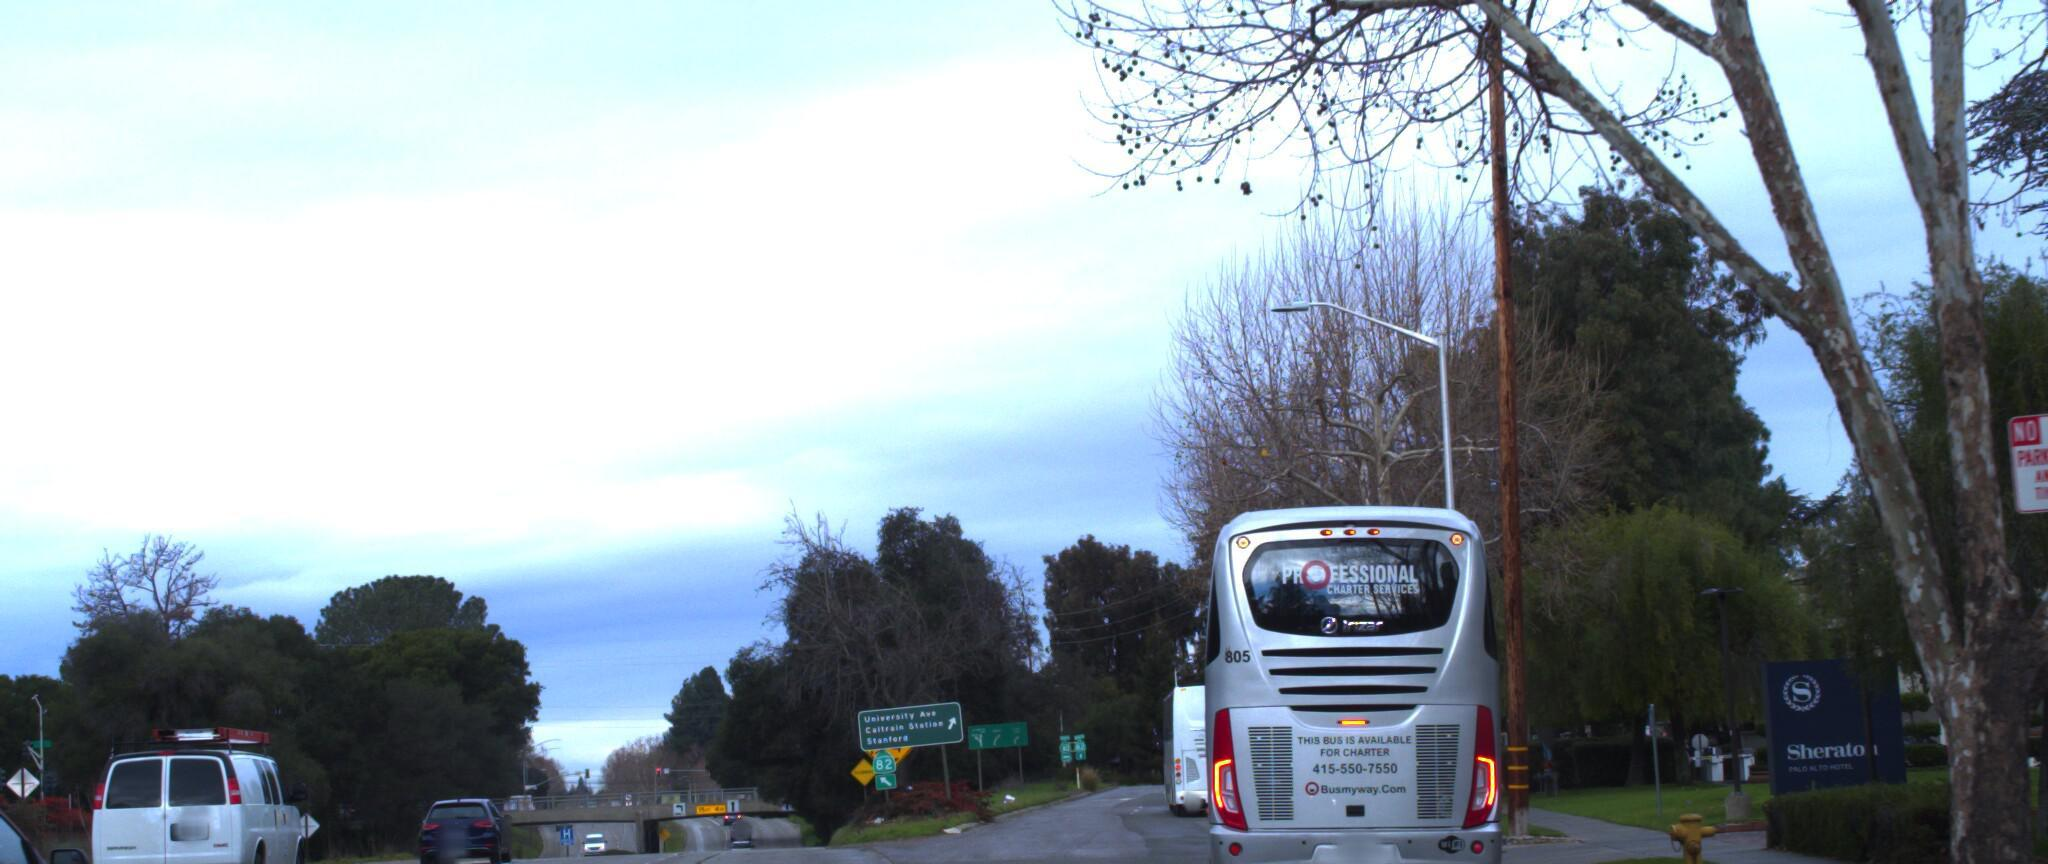bus: (1168, 457, 1541, 864), (1153, 660, 1280, 799)
car: (68, 705, 323, 864), (0, 697, 153, 864), (414, 782, 511, 856)
